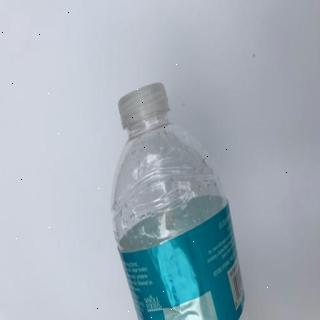Plastic-bottle: (109, 82, 249, 320)
